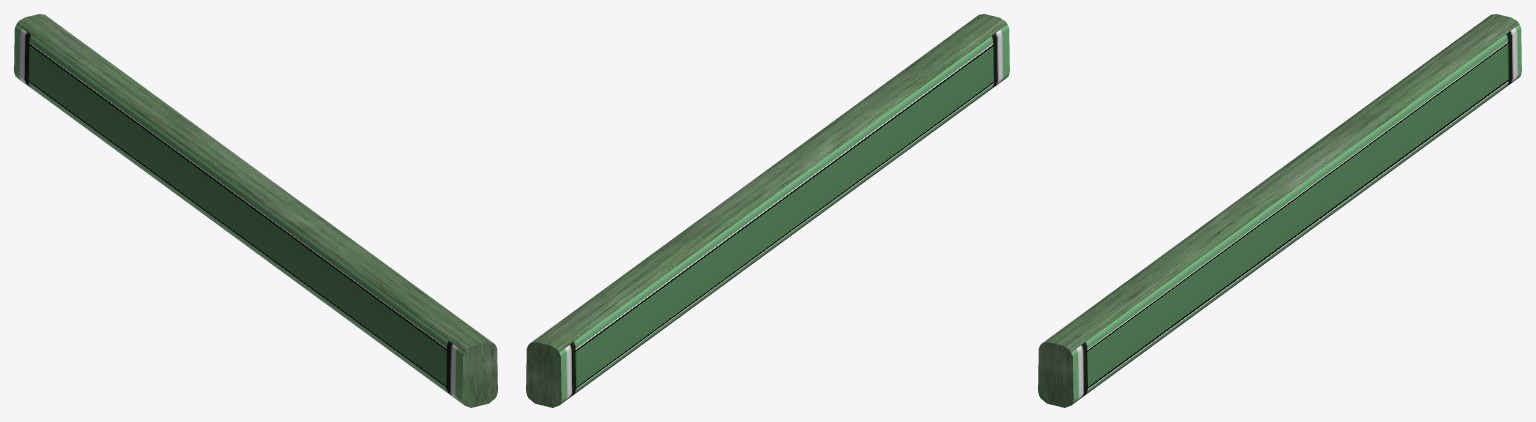
File: SM_R_Dancheong_17.fbx
3 renders of one model, left to right at view 1: azimuth 30°, elevation 25°; view 2: azimuth 150°, elevation 25°; view 3: azimuth 330°, elevation 25°, orthographic.
Parts seen in each view (by area): view 1: SM_R_Dancheong_17; view 2: SM_R_Dancheong_17; view 3: SM_R_Dancheong_17.
Boxes of the visible parts, x1=… form: SM_R_Dancheong_17: x1=14, y1=14, x2=497, y2=407; SM_R_Dancheong_17: x1=526, y1=14, x2=1009, y2=407; SM_R_Dancheong_17: x1=1038, y1=14, x2=1521, y2=407.
Bounding box in the file's own units: 21.06 × 460 × 35.01.
2 materials, 2 textured.
